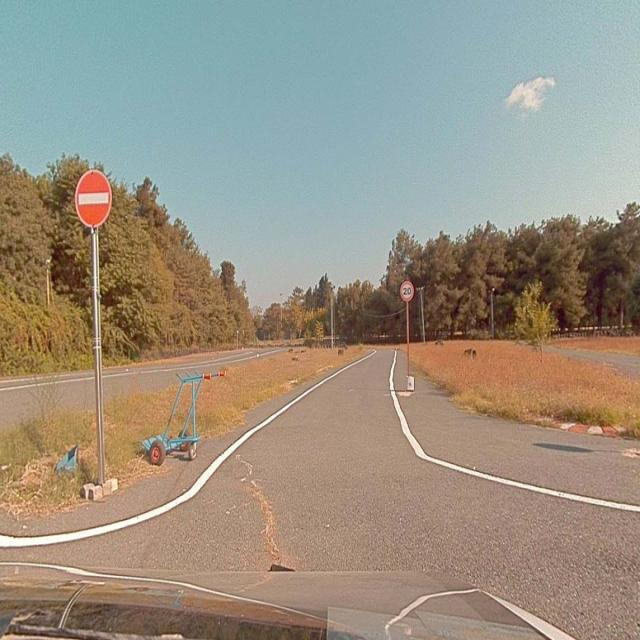20: (400, 281, 413, 300)
girisyok: (76, 171, 110, 225)
